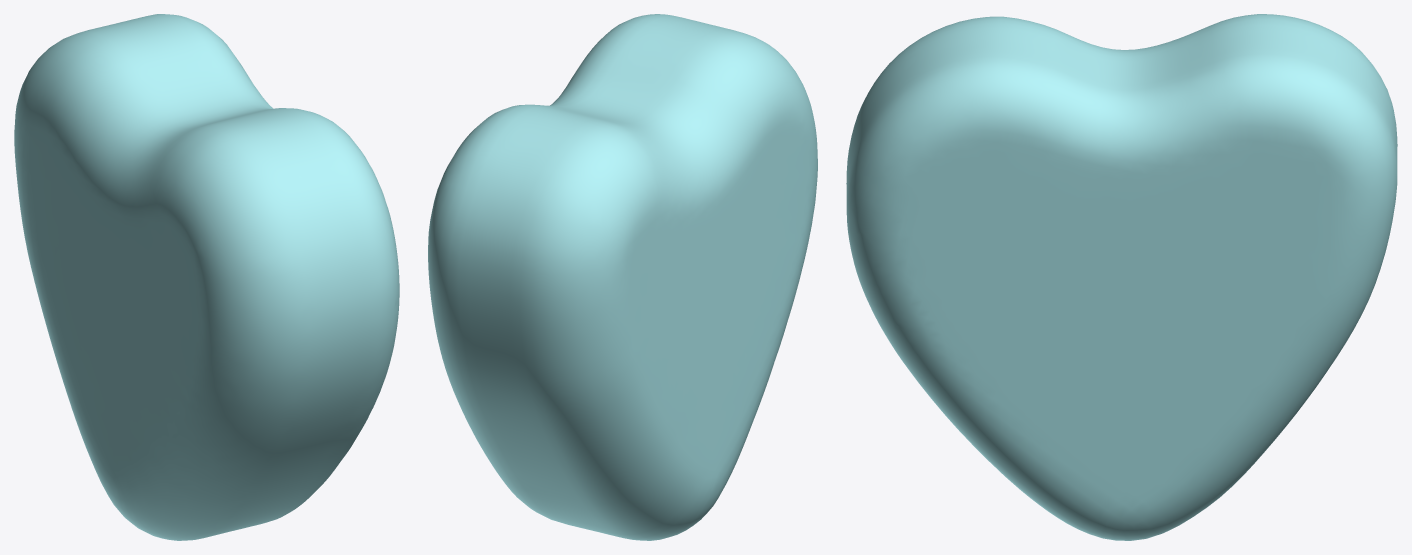
Rendered from Heart_Pill_Individual_Blue.glb.
3 renders of one model, left to right at view 1: azimuth 30°, elevation 25°; view 2: azimuth 150°, elevation 25°; view 3: azimuth 270°, elevation 25°, orthographic. The views are drawn at different scales.
Parts seen in each view (by area): view 1: Heart_Pill.007; view 2: Heart_Pill.007; view 3: Heart_Pill.007.
Part boxes in pixels (<box>): Heart_Pill.007: <box>14,14,399,540</box>; Heart_Pill.007: <box>428,14,817,540</box>; Heart_Pill.007: <box>846,14,1397,540</box>.
Size of the model in its own units: 0.5998 by 1.44 by 1.5.
1 material, 1 textured.
